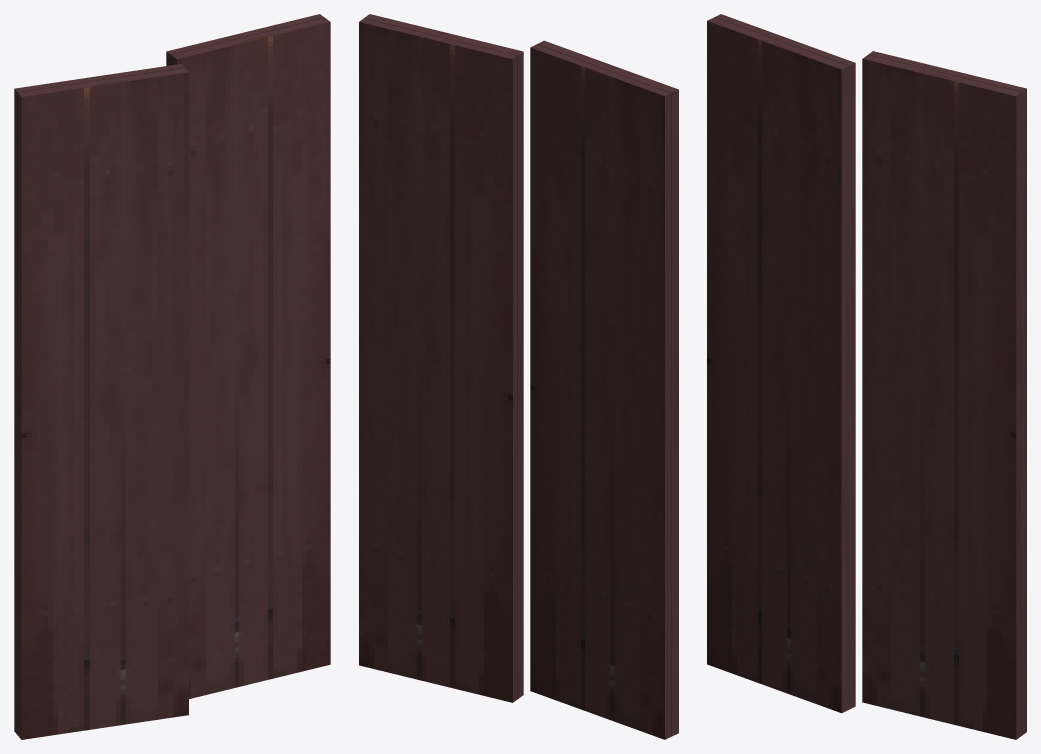
File: shutters_single_closed_02.glb
3 renders of one model, left to right at view 1: azimuth 30°, elevation 25°; view 2: azimuth 150°, elevation 25°; view 3: azimuth 330°, elevation 25°, orthographic.
Visible parts, largest first — view 1: shutters_single_closed_022; view 2: shutters_single_closed_022; view 3: shutters_single_closed_022.
Boxes of the visible parts, box(x1,y1,x2,y2) form: shutters_single_closed_022: box(14, 14, 330, 739); shutters_single_closed_022: box(359, 14, 678, 739); shutters_single_closed_022: box(707, 14, 1026, 739).
Bounding box in the file's own units: 1.01 × 2 × 0.152.
Materials: 1 (1 with a texture image).
